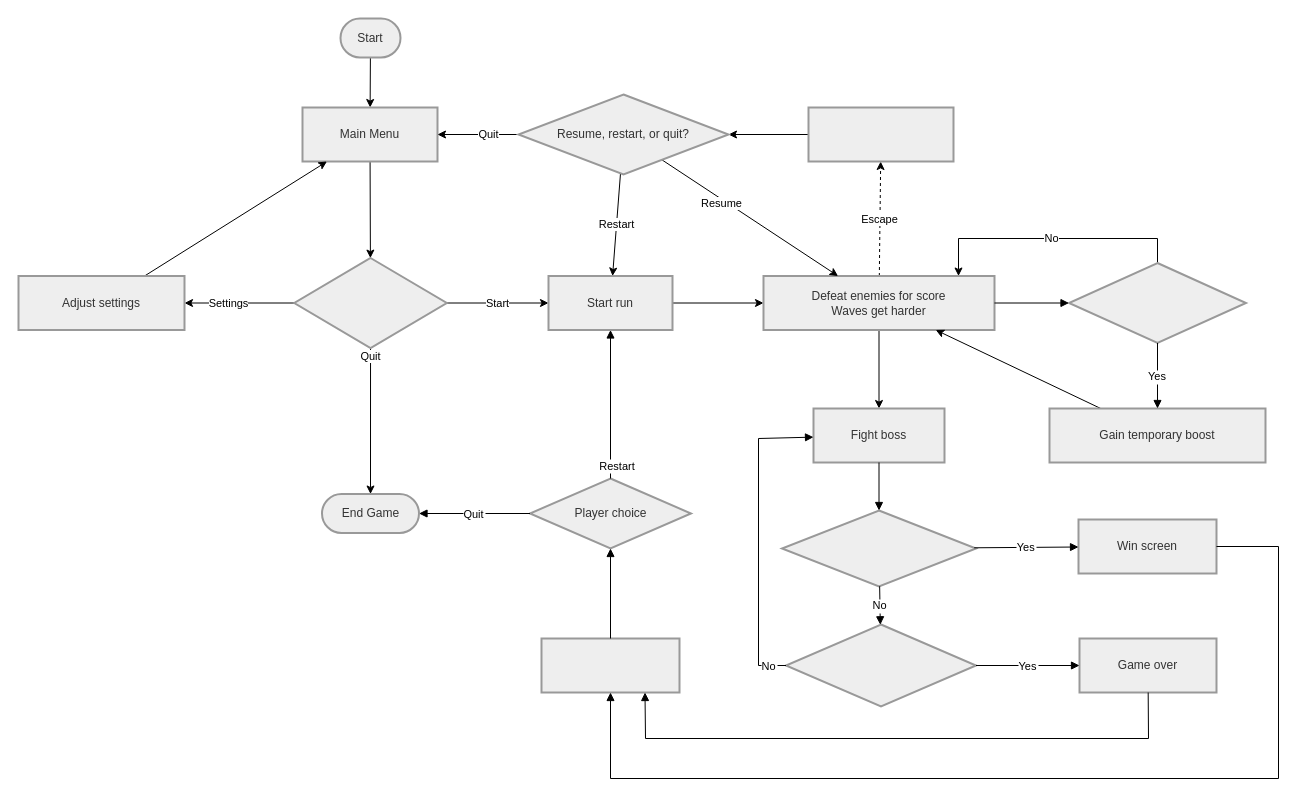
This 1304x804 diagram has some shape labels left out. The centre of each missing label's shape, as x and y in pixels:
"Boss defeated?" belongs at point (878, 548).
"End screen" belongs at point (610, 665).
"Pause menu" belongs at point (880, 134).
"Player defeated?" belongs at point (880, 665).
"Powerup collected?" belongs at point (1157, 303).
"Select option" belongs at point (370, 302).
